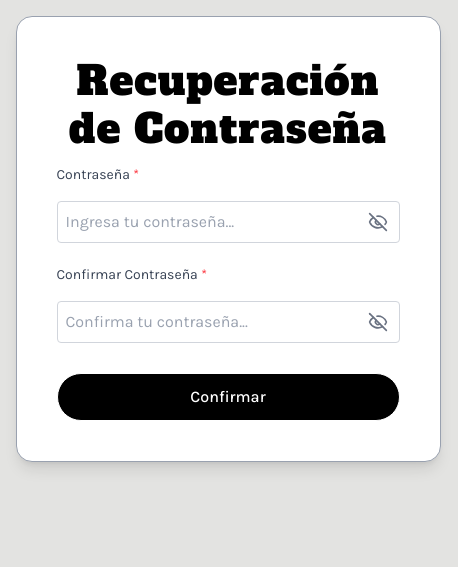
Test: ResetPage › muestra error si la contraseña no cumple los estándares
The width and height of the screenshot is (458, 567).
Type "abc" into the password field with test id "password-input".
click(228, 222); type("abc")  # box 56,201 -> 400,243
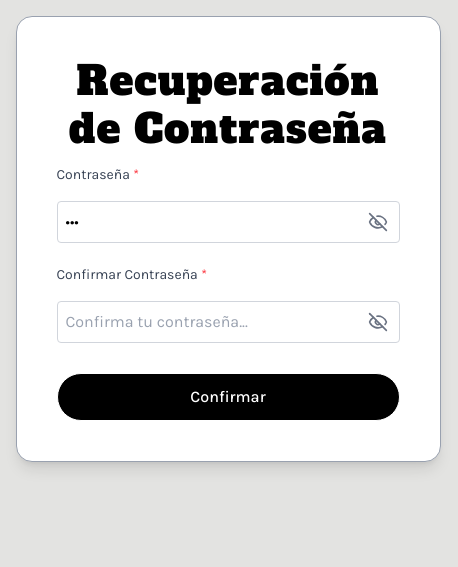
Type "abc" into the password field with test id "confirmation-input".
click(228, 322); type("abc")  # box 56,301 -> 400,343
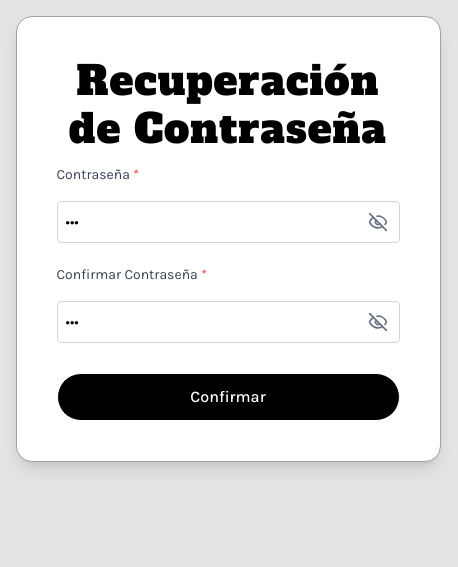
Click the button "Confirmar".
click(228, 397)  # box 56,373 -> 400,421
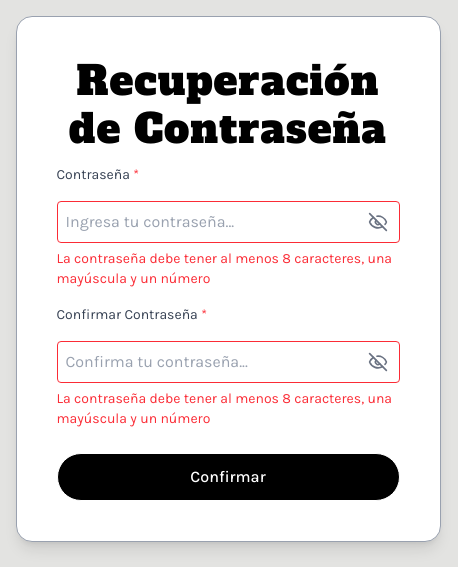
Expected: the text "La contraseña debe tener al menos 8 caracteres, una mayúscula y un número" is shown 2 times, 56,249 -> 400,289; 56,389 -> 400,429
